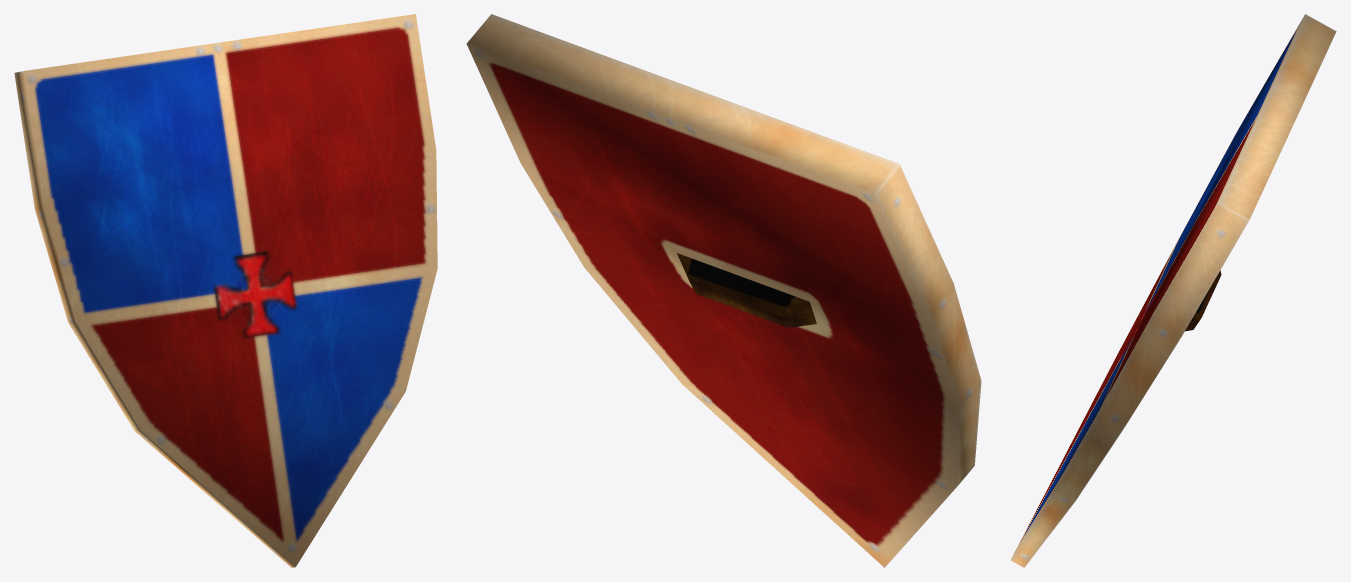
File: shield .fbx
3 views of the same model, side by side, from view 1: azimuth 30°, elevation 25°; view 2: azimuth 150°, elevation 25°; view 3: azimuth 270°, elevation 25° (orthographic). The views are drawn at different scales.
Visible parts, largest first — view 1: Cube; view 2: Cube; view 3: Cube.
Part boxes in pixels (bbox=[...]): Cube: bbox=[14, 14, 437, 567]; Cube: bbox=[466, 14, 981, 567]; Cube: bbox=[1010, 14, 1336, 567].
Size of the model in its own units: 24.5 by 27.83 by 17.17.
